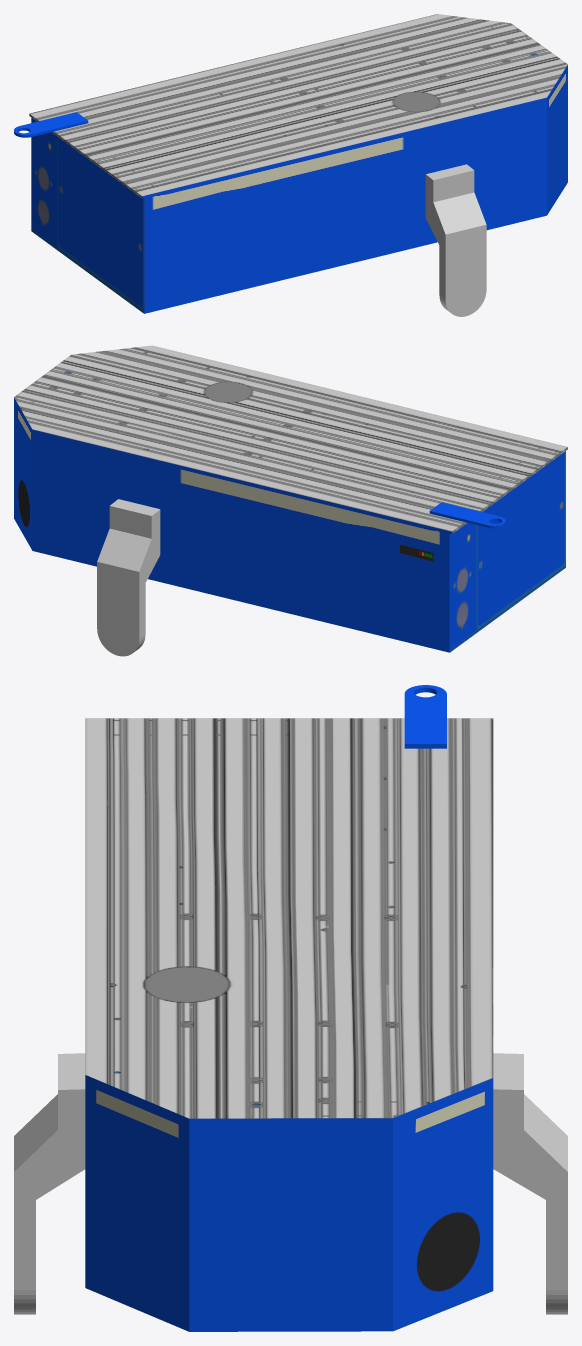
The model's file is body.dae.
3 views of the same model, one above another, from view 1: azimuth 30°, elevation 25°; view 2: azimuth 150°, elevation 25°; view 3: azimuth 270°, elevation 25° (orthographic). The views are drawn at different scales.
Visible parts, largest first — view 1: Body; view 2: Body; view 3: Body.
Boxes of the visible parts, x1,y1,x2,y2 form: Body: (14,14,567,316); Body: (14,345,567,656); Body: (14,685,567,1331).
Bounding box in the file's own units: 0.5998 × 0.3273 × 0.2145.
Materials: 1 (1 with a texture image).
